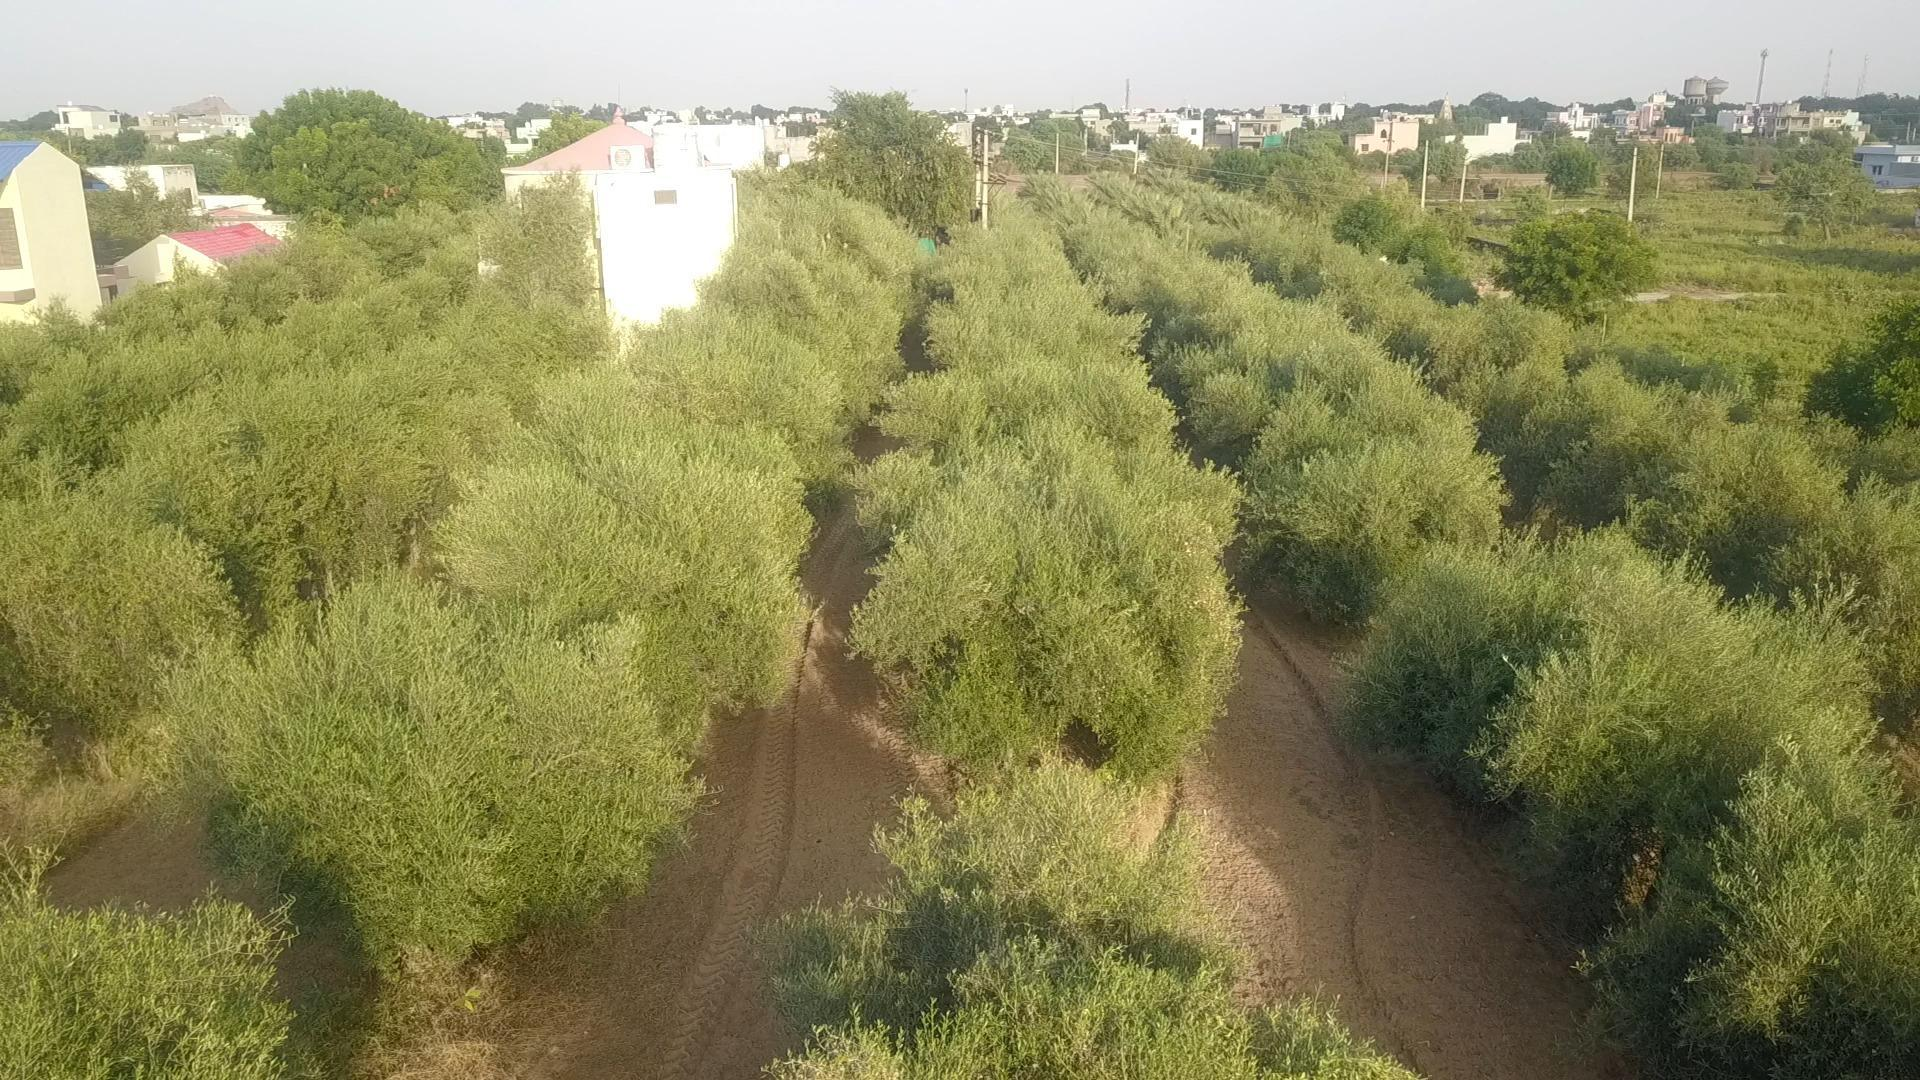canopy: (0, 189, 913, 1076), (1051, 196, 1919, 1076), (753, 218, 1406, 1079), (1182, 186, 1919, 711), (0, 195, 607, 724)
road: (485, 541, 935, 1079), (1179, 597, 1621, 1079)
